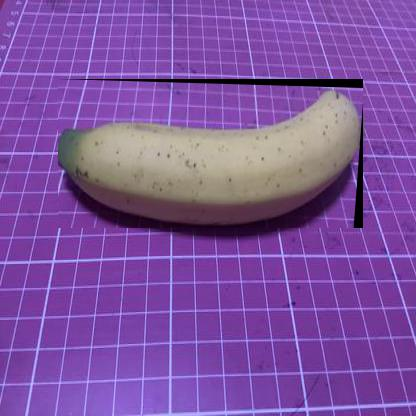bananarotation: (58, 80, 364, 230)
